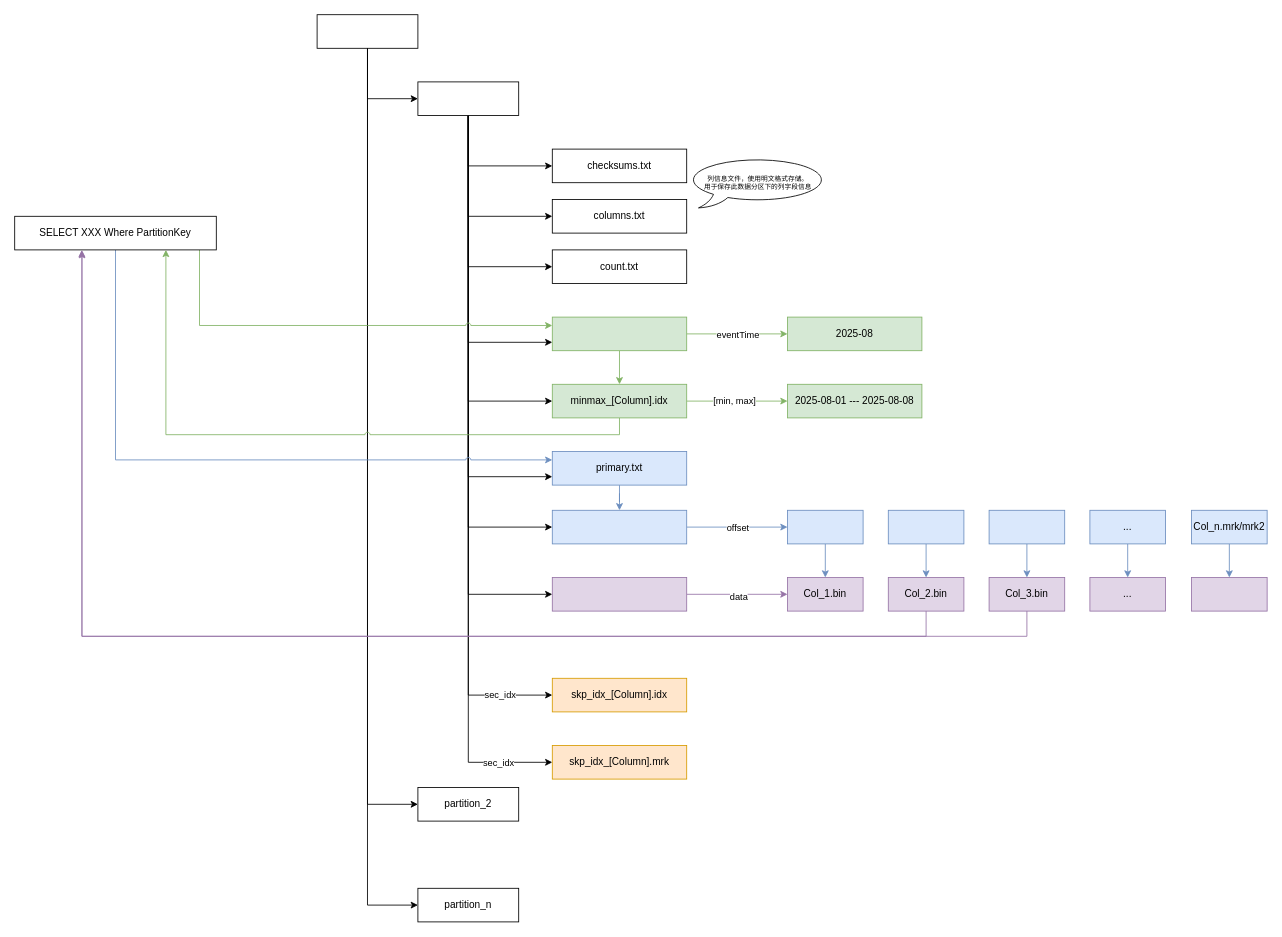
Some shapes in this 1282 by 937 pixel diagram are drawn without their labels. Here are the shapes that lost their labels. From the top down, the centre of each, then its label:
point (367, 31): Table_Name
point (468, 98): partition_1
point (619, 333): partition.dat
point (619, 526): [Column].mrk/mrk2
point (825, 526): Col_1.mrk/mrk2
point (925, 526): Col_2.mrk/mrk2
point (1026, 526): Col_3.mrk/mrk2
point (619, 594): [Column].bin
point (1229, 594): Col_n.bin
